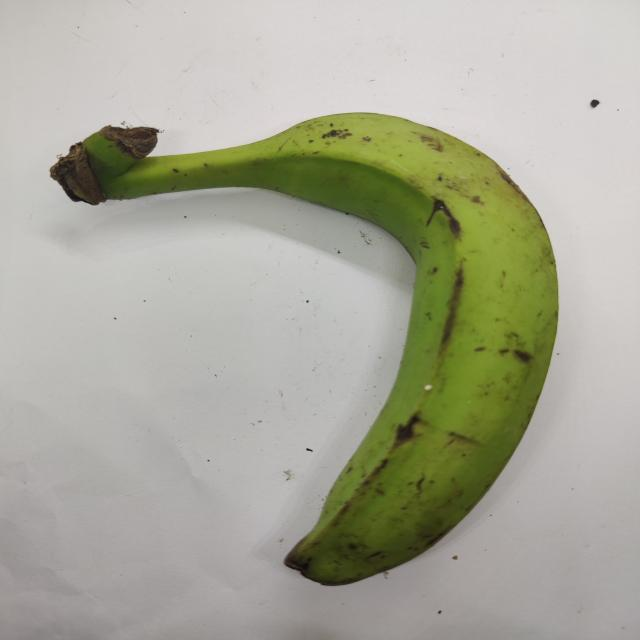Raw: (26, 94, 614, 590)
